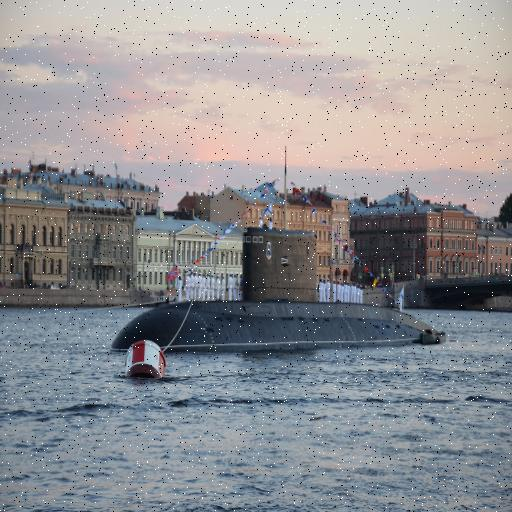submarine: (114, 221, 452, 349)
